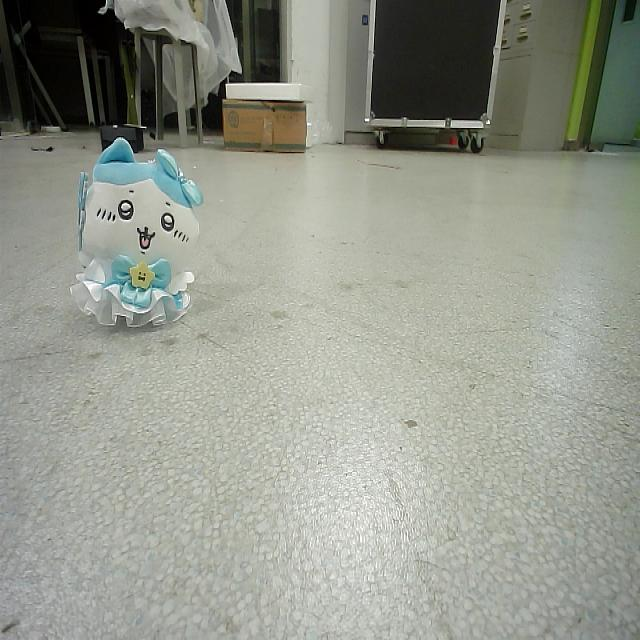xiaoba: (76, 133, 205, 334)
